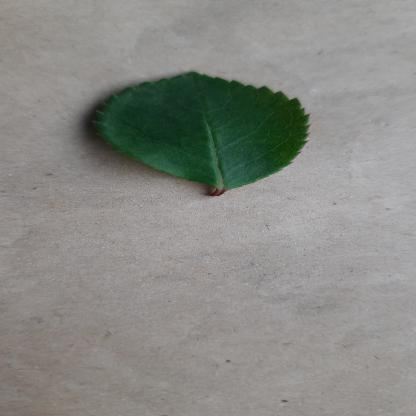normal: (80, 68, 310, 190)
